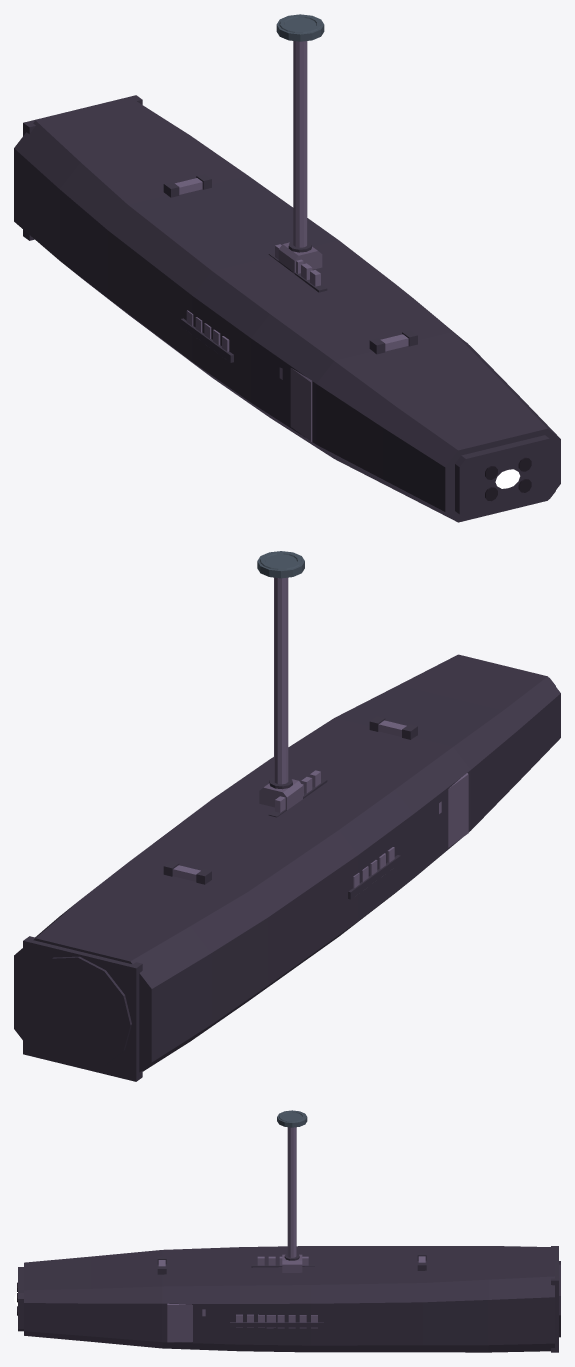
3 views of the same model, one above another, from view 1: azimuth 30°, elevation 25°; view 2: azimuth 150°, elevation 25°; view 3: azimuth 270°, elevation 25° (orthographic). The views are drawn at different scales.
Parts seen in each view (by area): view 1: RIMWARD_HULL; view 2: RIMWARD_HULL; view 3: RIMWARD_HULL.
Boxes of the visible parts, x1=… form: RIMWARD_HULL: x1=14, y1=14, x2=560, y2=522; RIMWARD_HULL: x1=14, y1=551, x2=560, y2=1081; RIMWARD_HULL: x1=17, y1=1110, x2=560, y2=1352.
Size of the model in its own units: 2.47 by 4.9 by 10.88.
